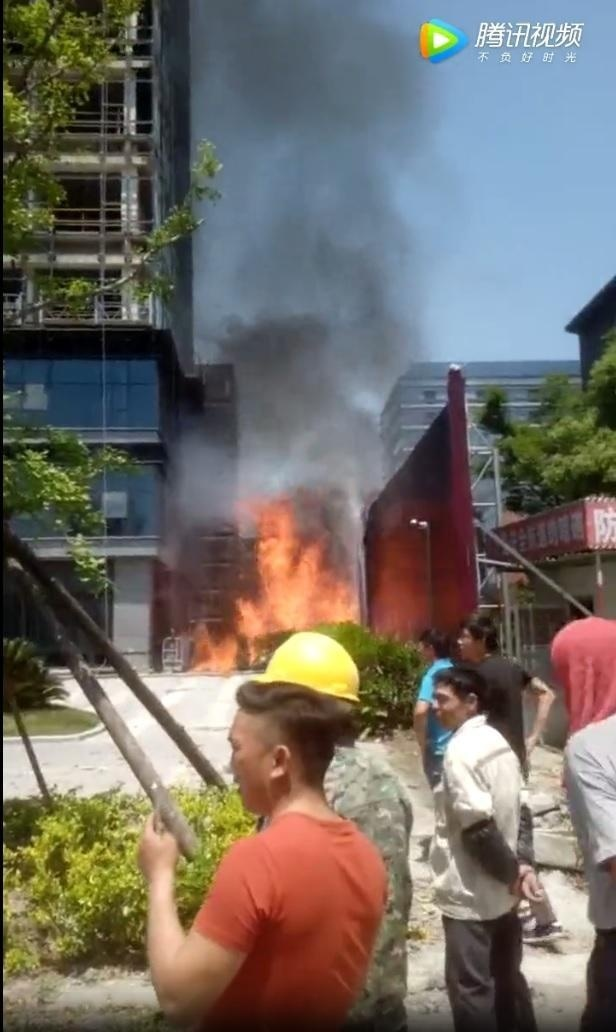fire: (197, 502, 359, 662)
